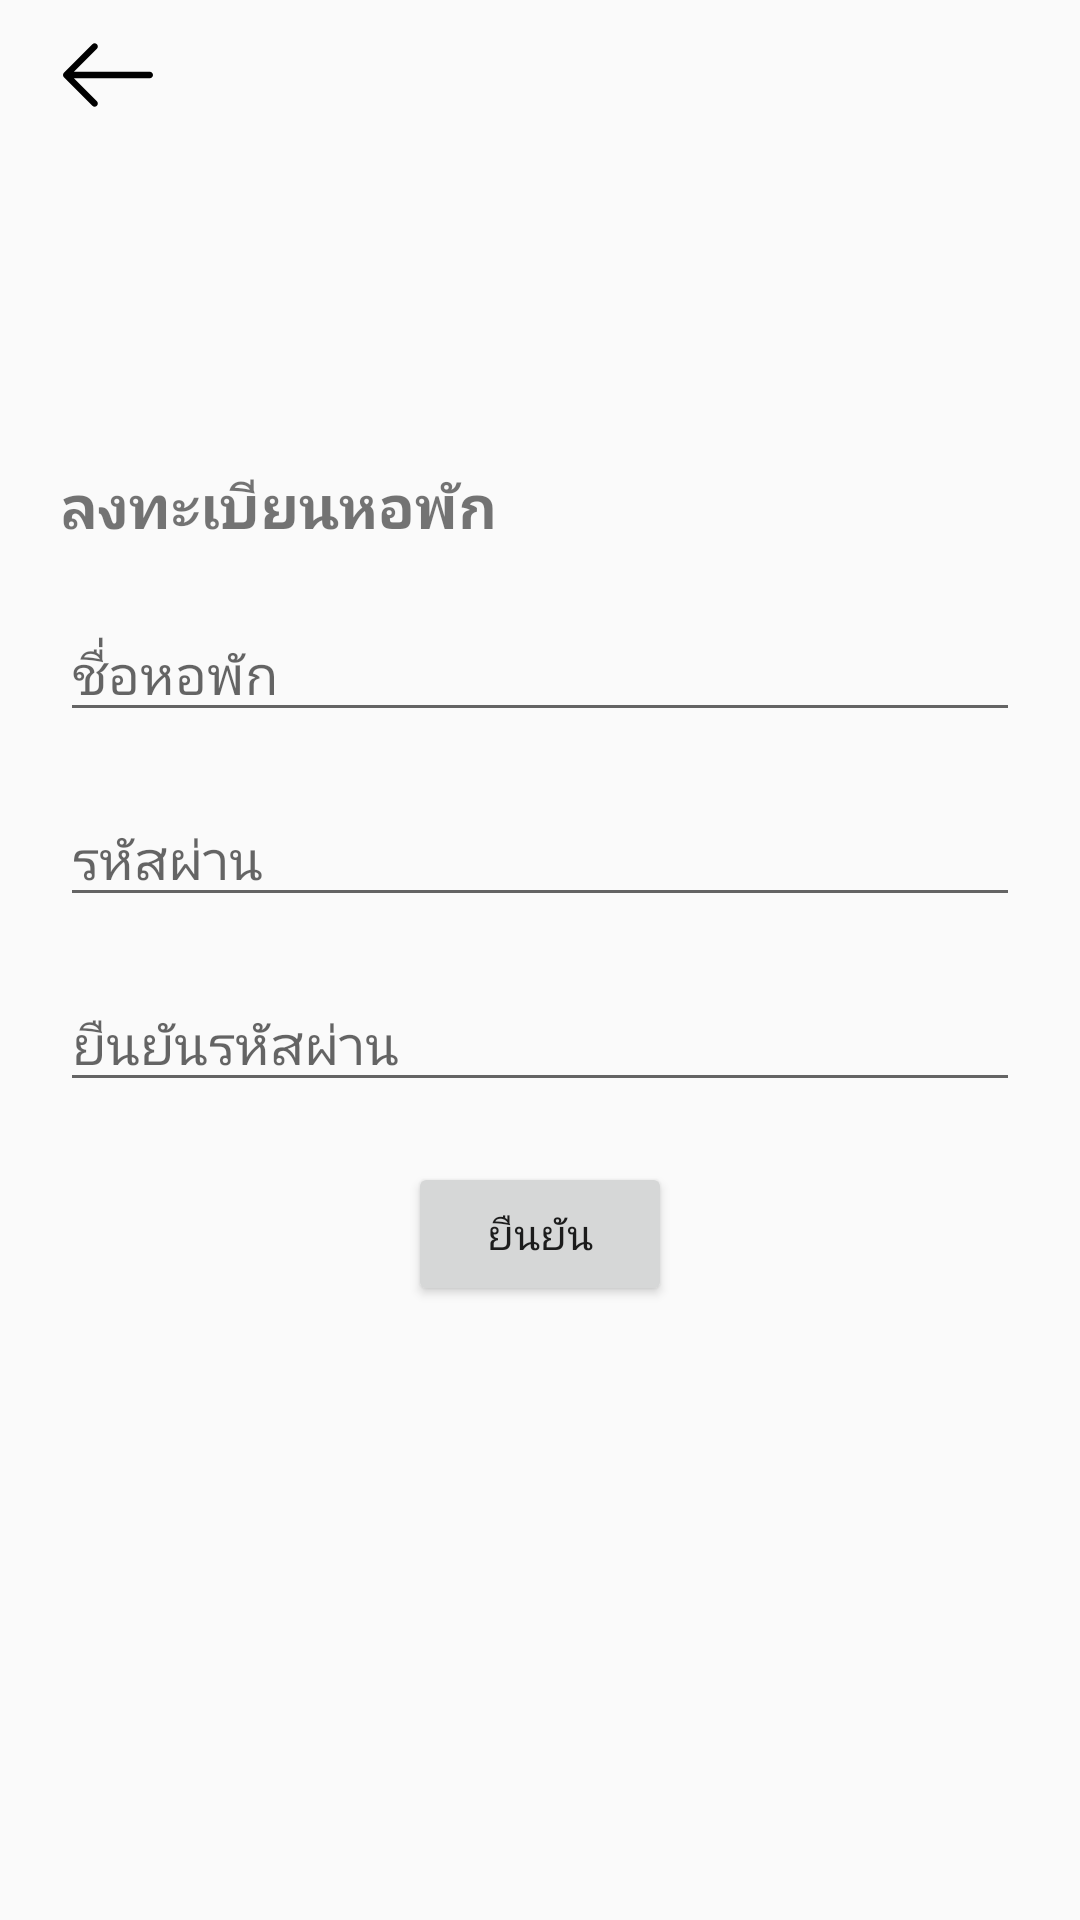

Point at icon controls on the screen. Image size 1080×1920, points as (x,y).
left arrow: (108,75)
